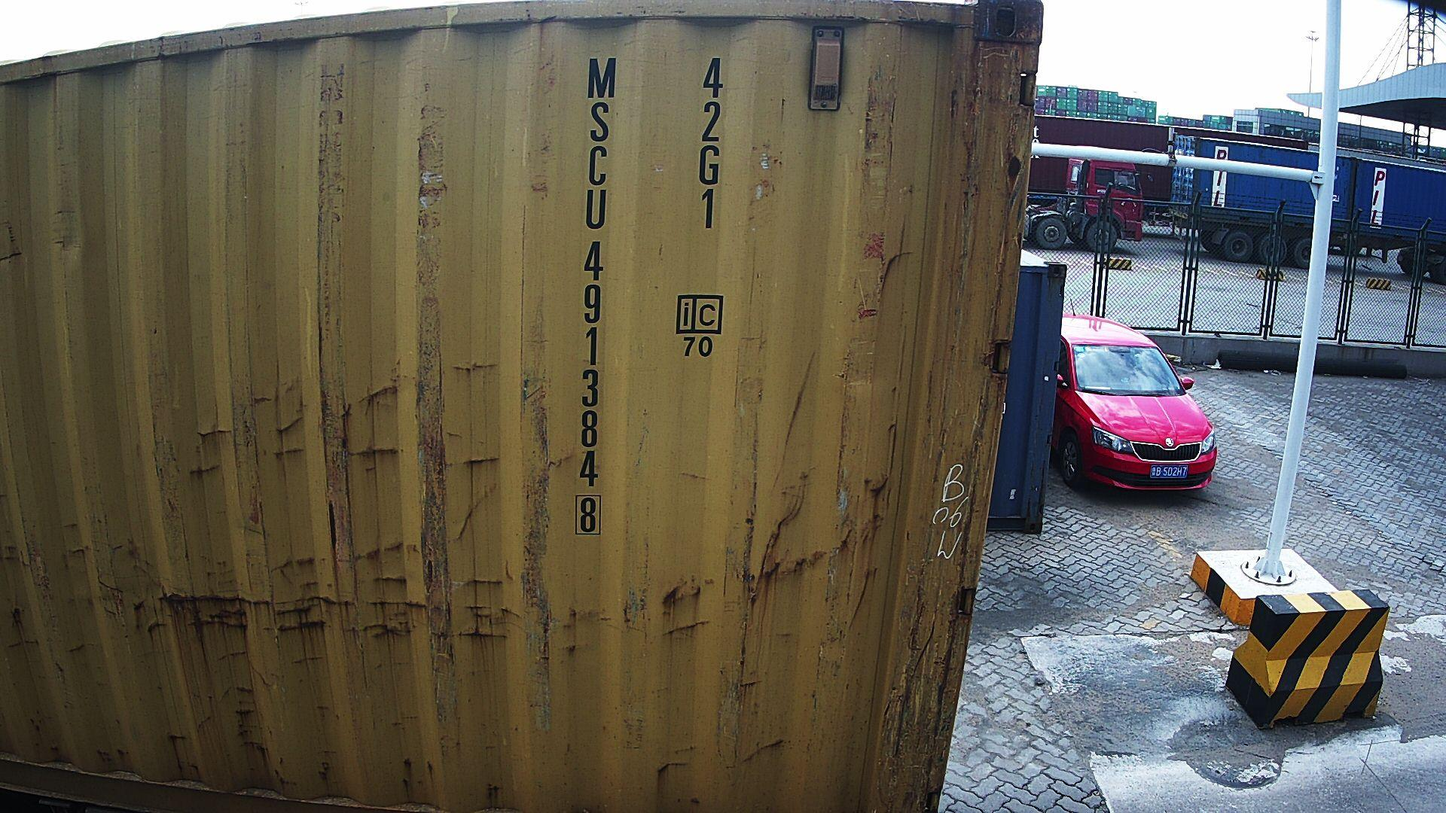container-numbers: (570, 55, 619, 543), (691, 53, 732, 236)
